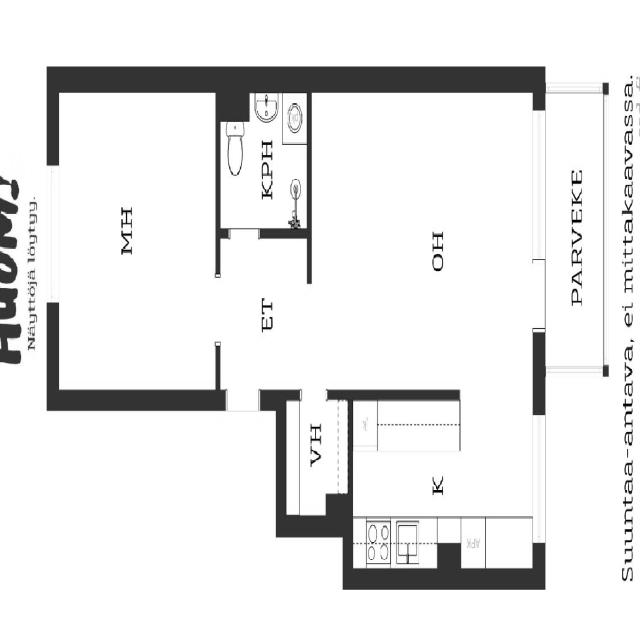window: (525, 98, 552, 275), (527, 402, 550, 559), (46, 151, 60, 317), (528, 250, 550, 342), (220, 382, 266, 422), (544, 359, 608, 382), (226, 222, 263, 244)
zone: (311, 78, 536, 390), (56, 83, 218, 397), (348, 390, 536, 580), (218, 84, 310, 236), (217, 237, 309, 389), (279, 395, 352, 525)
